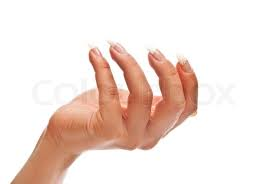hand: (57, 31, 217, 154)
